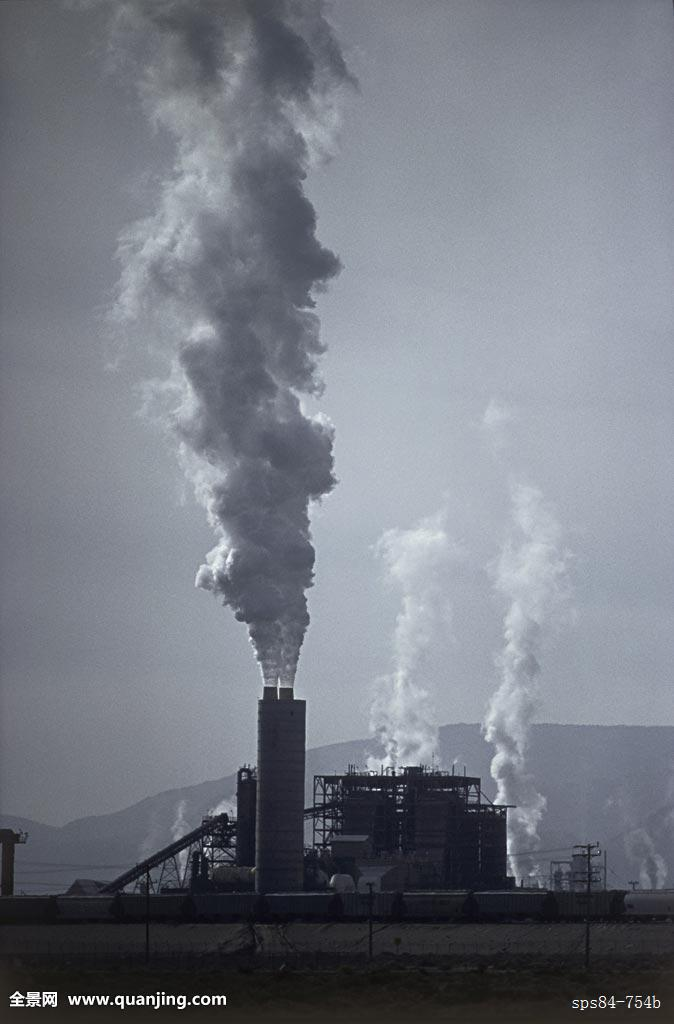dust: (131, 106, 348, 710), (479, 525, 585, 888)
